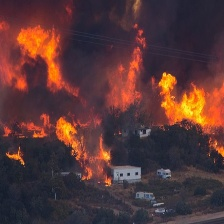fire: (4, 113, 111, 183), (154, 75, 224, 132), (19, 25, 69, 92)
smoke: (141, 2, 220, 78), (62, 2, 122, 90)
